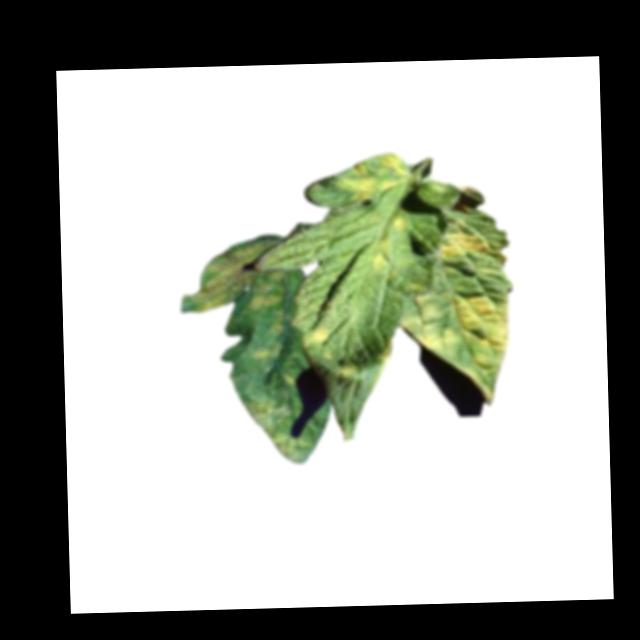Leaf_Mold: (399, 289, 515, 397), (193, 234, 286, 316), (333, 151, 409, 204), (243, 397, 306, 459), (437, 231, 490, 265), (370, 236, 394, 277), (388, 208, 413, 238), (334, 355, 362, 381), (301, 328, 338, 346), (252, 342, 283, 361), (284, 372, 299, 388)
